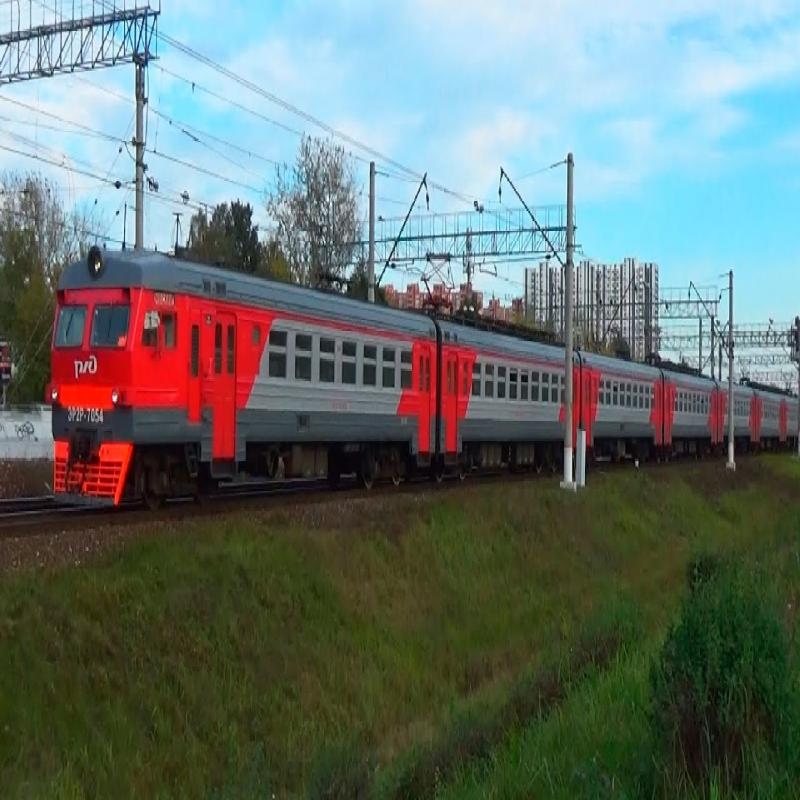train: (36, 223, 448, 539), (420, 288, 593, 493), (560, 340, 674, 477), (663, 369, 724, 449)
